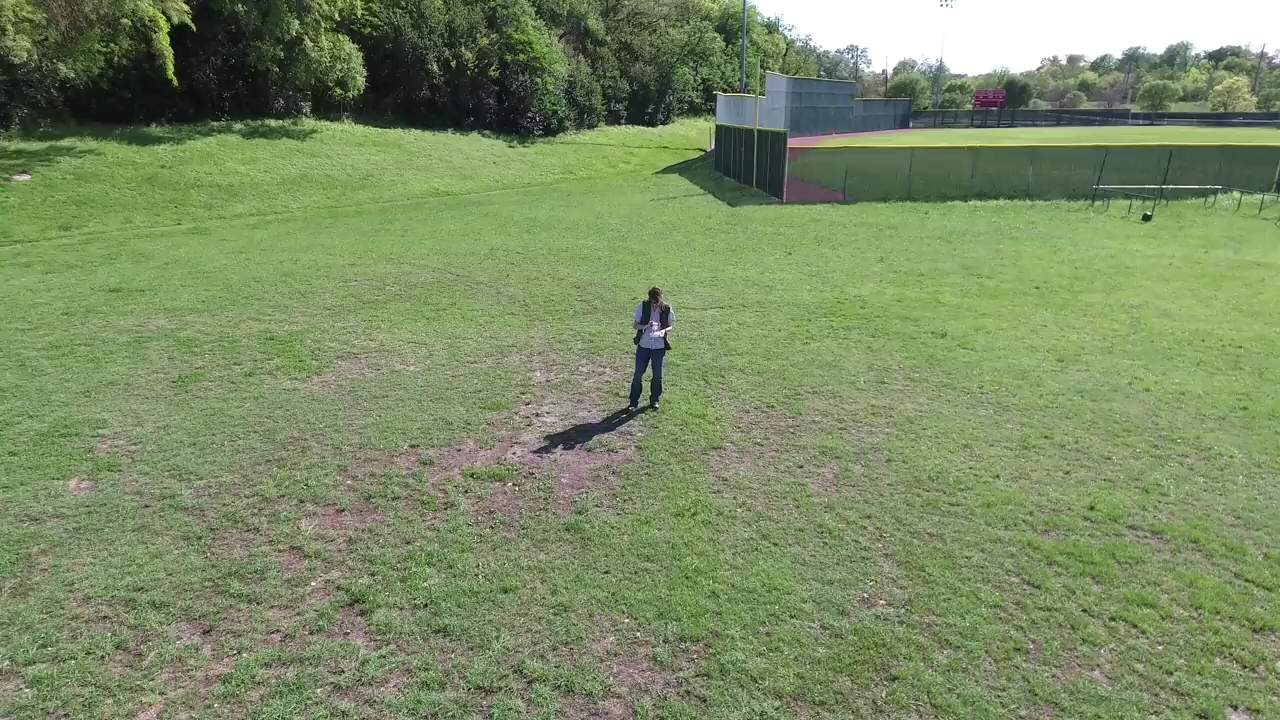insan: (628, 288, 678, 413)
